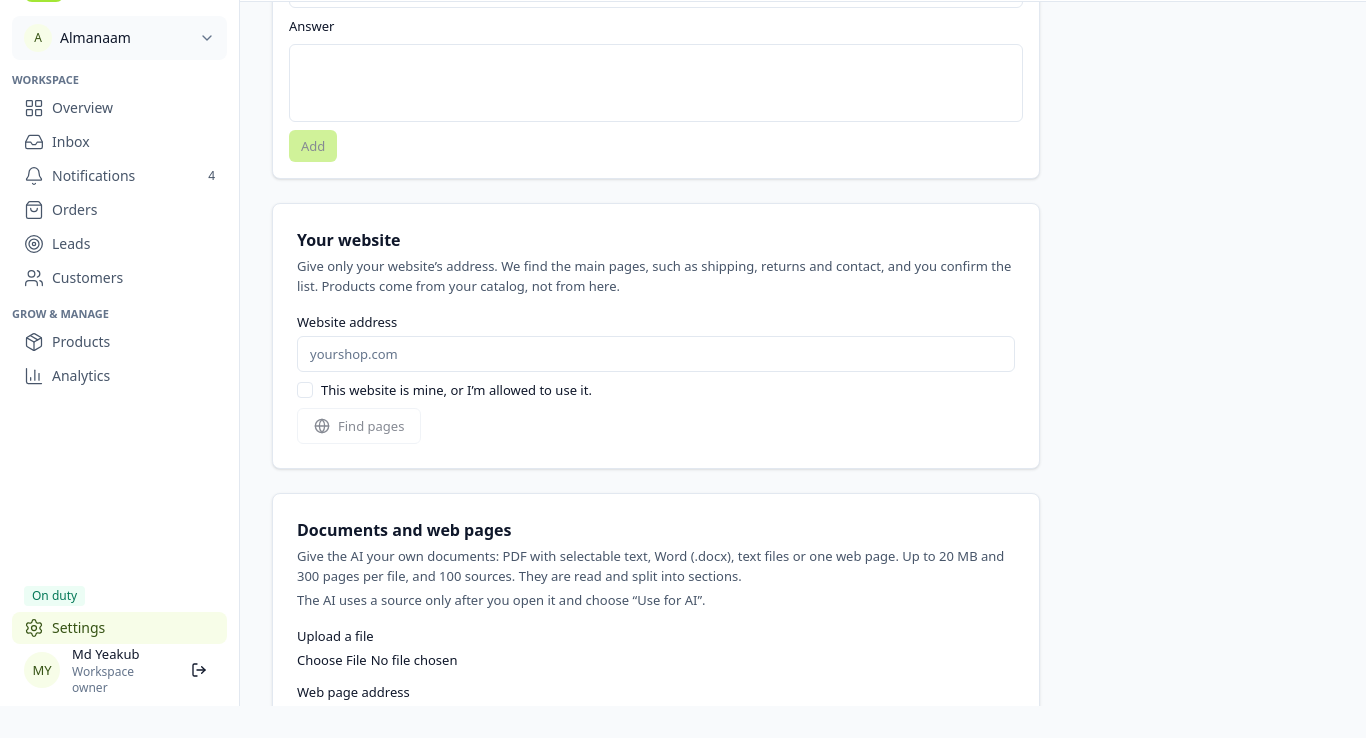
Test case: Settings → Shop knowledge → Website › finds a site only after the owner confirms it is theirs
(page scrolled)
In the field labelled "Website address": [656, 354] box [297,336,1015,372], type " shop.example "
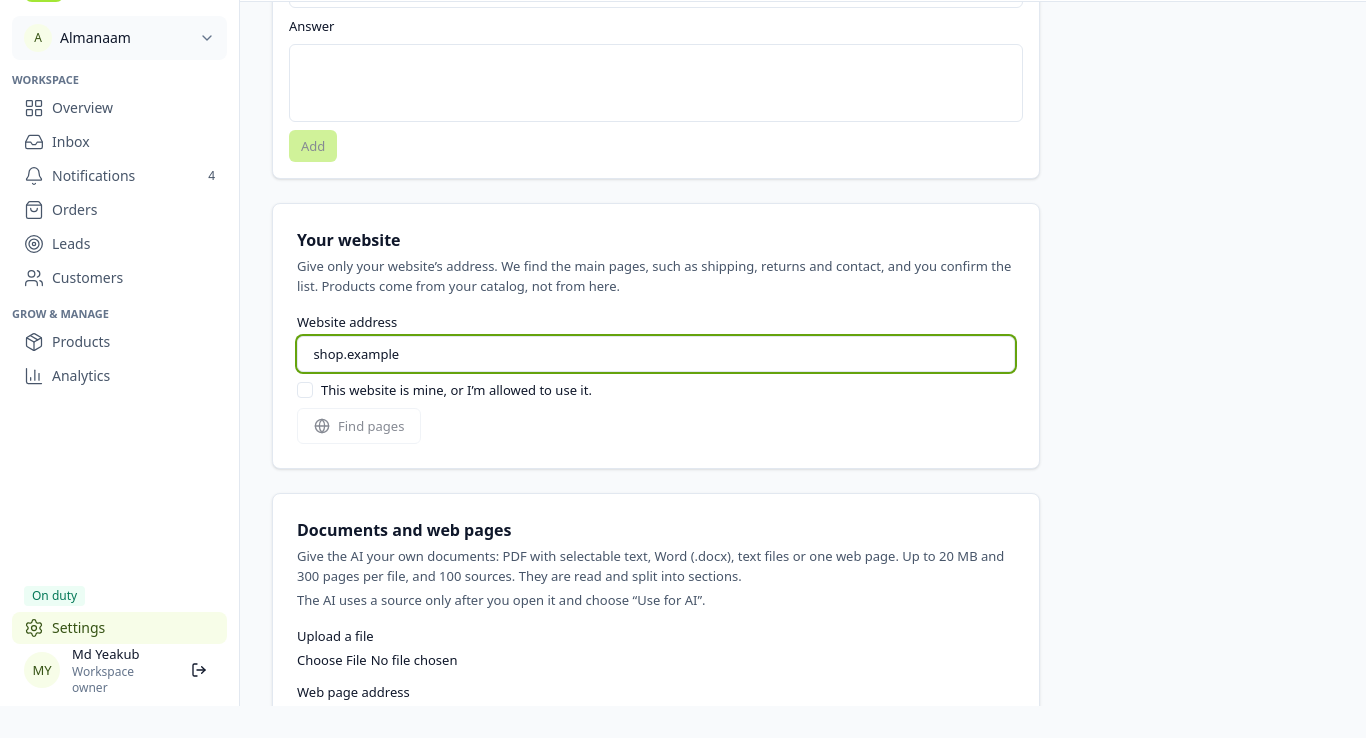
Expected: the button "Find pages" is disabled, [297,408,421,444]
Click the checkbox named "This website is mine": [305, 390] box [297,382,313,398]
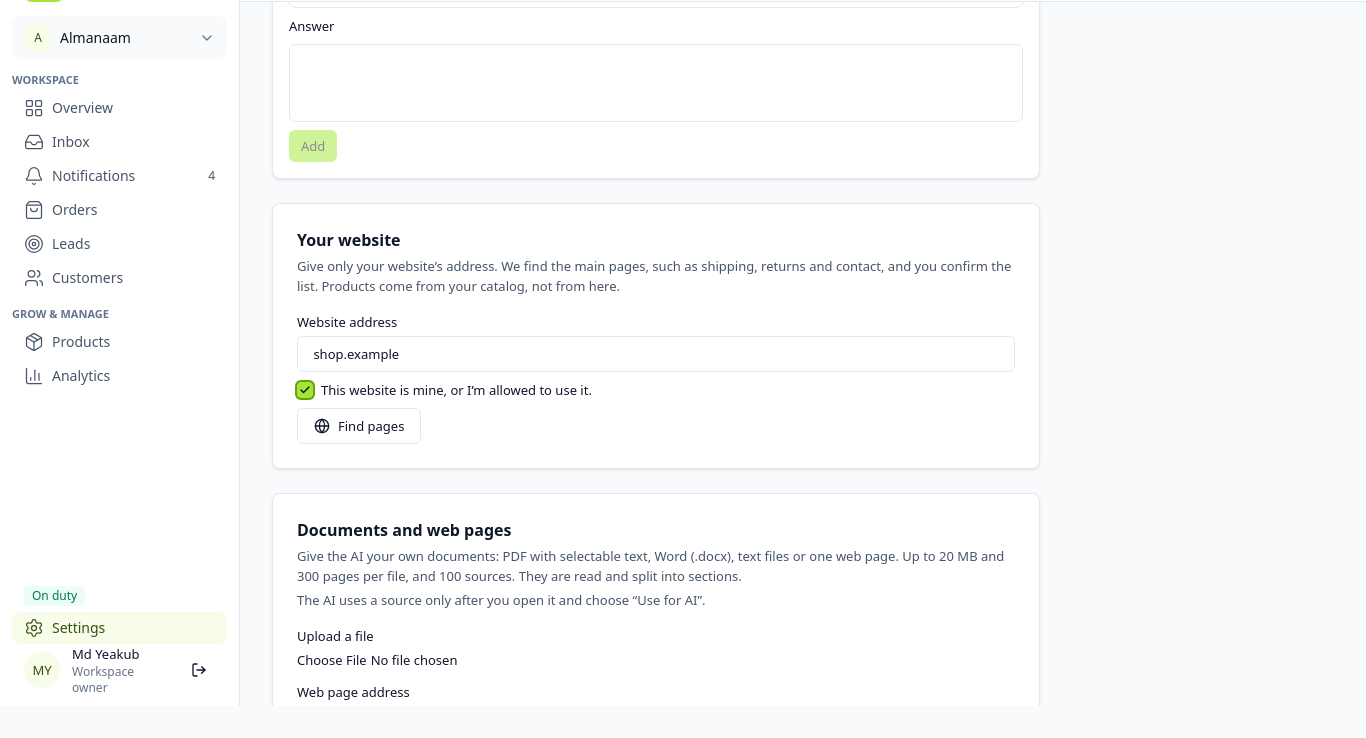
Click the button "Find pages": [359, 426] box [297,408,421,444]
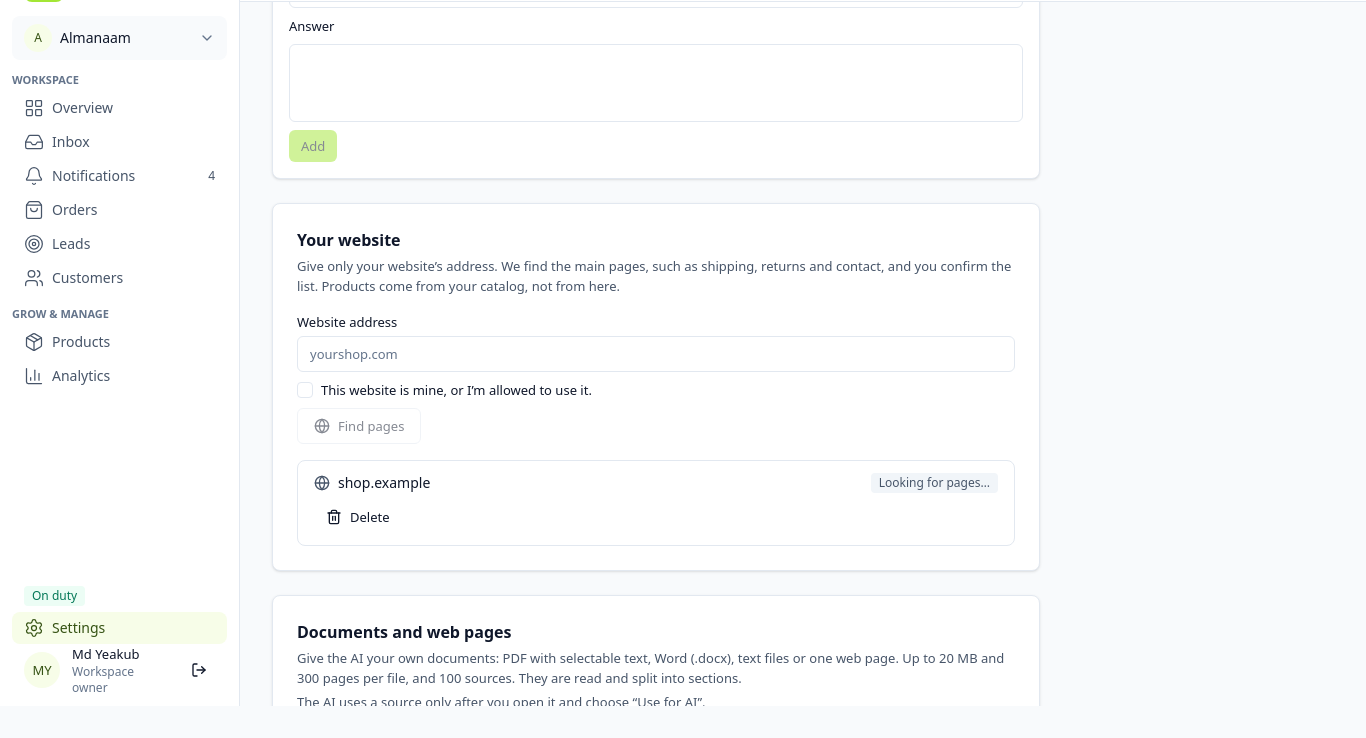
Expected: the text "Looking for pages…" is shown, [871,473,998,493]
